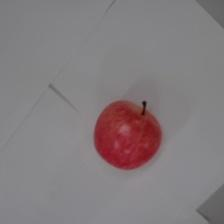red: (89, 96, 164, 174)
